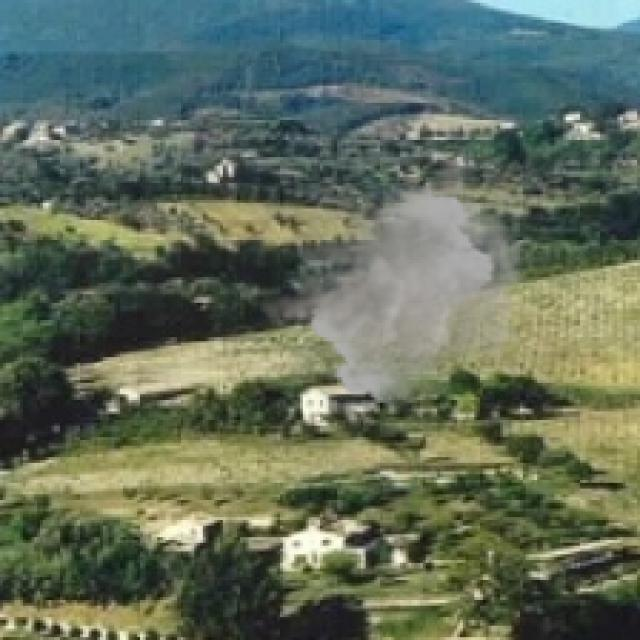smoke: (257, 148, 532, 408)
